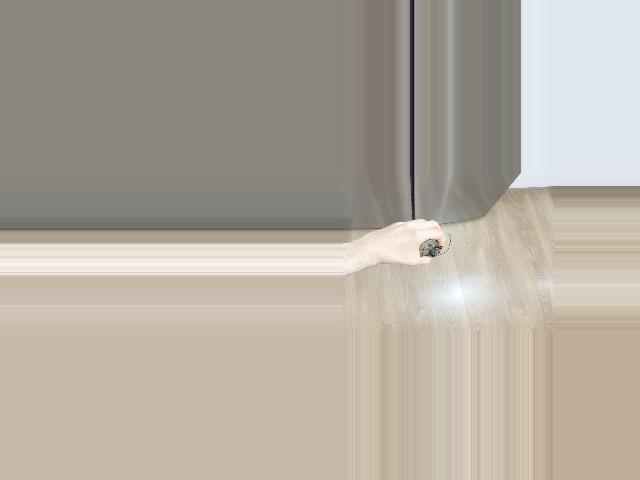beet: (419, 233, 452, 257)
